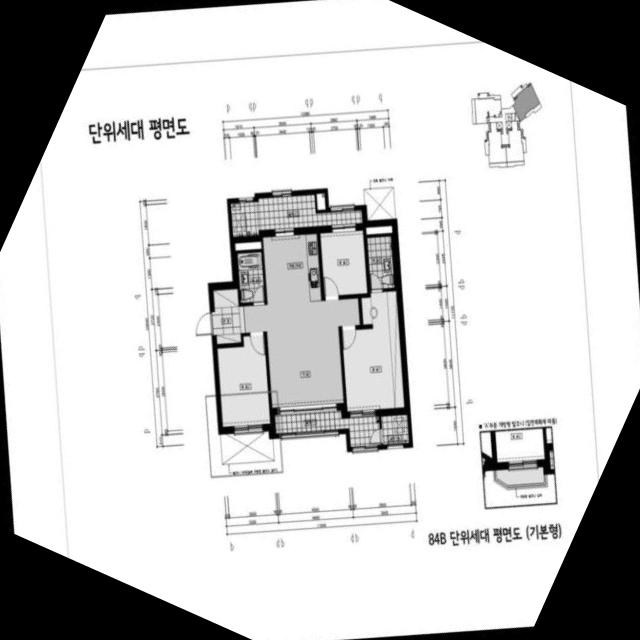background: (0, 0, 640, 640)
space_balconi: (231, 194, 362, 236), (275, 410, 381, 446)
space_bedroom: (342, 290, 404, 411), (217, 334, 270, 426), (320, 230, 367, 296)
space_front: (211, 288, 245, 344)
space_kitchen: (263, 233, 321, 304)
space_living_room: (244, 298, 360, 407)
space_other: (235, 241, 261, 250), (366, 225, 392, 234), (316, 193, 326, 209)
space_outdoor_room: (381, 414, 409, 444)
space_toilet: (367, 236, 395, 289), (237, 251, 265, 302)
